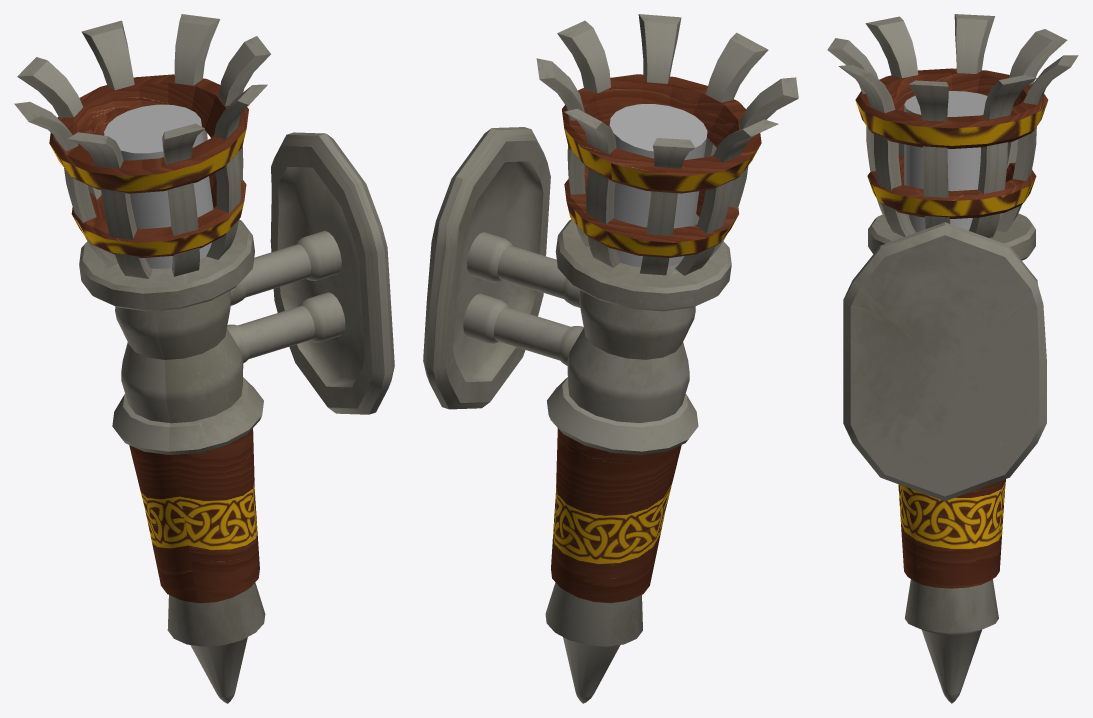
Rendered from Wall Torch.fbx.
3 renders of one model, left to right at view 1: azimuth 30°, elevation 25°; view 2: azimuth 150°, elevation 25°; view 3: azimuth 270°, elevation 25°, orthographic. The views are drawn at different scales.
Visible parts, largest first — view 1: pCylinder7, pCylinder12, pCylinder8, flame, pCylinder9, pCylinder11, pCylinder10, pCube35, pCube34, pCube32, pCube39, pCube38 (+3 smaller); view 2: pCylinder7, pCylinder12, pCylinder8, flame, pCylinder9, pCylinder11, pCylinder10, pCube37, pCube38, pCube36, pCube34, pCube32 (+3 smaller); view 3: pCylinder12, pCylinder7, pCylinder8, pCylinder9, flame, pCube39, pCube32, pCube33, pCube37, pCube35, pCube38, pCube36 (+1 smaller).
Boxes of the visible parts, x1=… form: pCylinder7: x1=79, y1=219, x2=265, y2=703; pCylinder12: x1=270, y1=132, x2=394, y2=414; pCylinder8: x1=49, y1=74, x2=248, y2=193; flame: x1=104, y1=104, x2=213, y2=268; pCylinder9: x1=71, y1=173, x2=246, y2=257; pCylinder11: x1=227, y1=292, x2=345, y2=363; pCylinder10: x1=230, y1=230, x2=341, y2=305; pCube35: x1=67, y1=132, x2=152, y2=278; pCube34: x1=162, y1=123, x2=204, y2=276; pCube32: x1=206, y1=84, x2=267, y2=259; pCube39: x1=174, y1=14, x2=220, y2=141; pCube38: x1=14, y1=102, x2=118, y2=267; pCylinder7: x1=545, y1=219, x2=731, y2=703; pCylinder12: x1=423, y1=127, x2=550, y2=409; pCylinder8: x1=562, y1=74, x2=761, y2=193; flame: x1=609, y1=104, x2=707, y2=267; pCylinder9: x1=564, y1=167, x2=739, y2=257; pCylinder11: x1=463, y1=293, x2=583, y2=365; pCylinder10: x1=467, y1=232, x2=580, y2=307; pCube37: x1=564, y1=108, x2=620, y2=267; pCube38: x1=675, y1=119, x2=778, y2=275; pCube36: x1=640, y1=138, x2=695, y2=275; pCube34: x1=694, y1=32, x2=768, y2=224; pCube32: x1=638, y1=14, x2=681, y2=83; pCylinder12: x1=843, y1=222, x2=1046, y2=500; pCylinder7: x1=868, y1=213, x2=1035, y2=703; pCylinder8: x1=855, y1=68, x2=1048, y2=148; pCylinder9: x1=867, y1=155, x2=1036, y2=218; flame: x1=904, y1=91, x2=987, y2=232; pCube39: x1=969, y1=75, x2=1036, y2=237; pCube32: x1=838, y1=65, x2=915, y2=236; pCube33: x1=908, y1=80, x2=950, y2=228; pCube37: x1=996, y1=55, x2=1078, y2=232; pCube35: x1=865, y1=16, x2=918, y2=156; pCube38: x1=954, y1=14, x2=994, y2=73; pCube36: x1=1000, y1=29, x2=1067, y2=217.
Size of the model in its own units: 0.96 by 1.92 by 0.6958.
